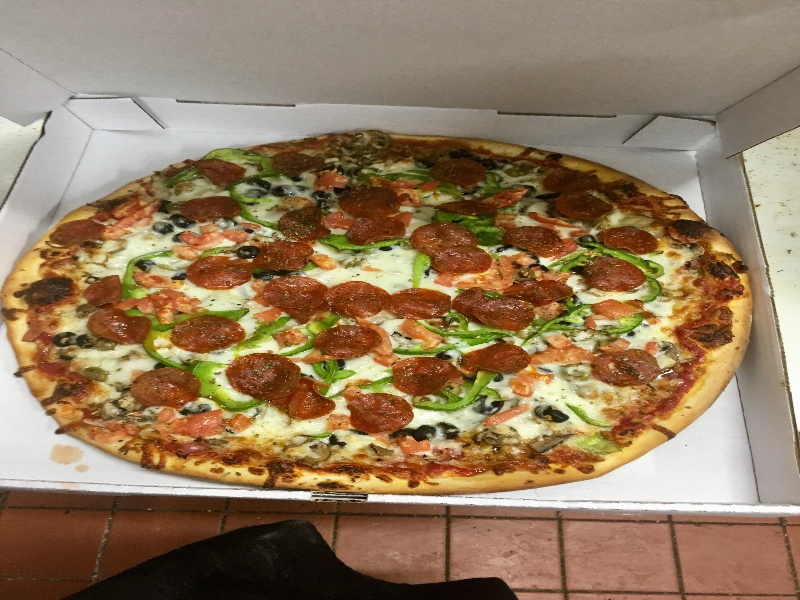pepperonis: (406, 216, 496, 278), (331, 379, 412, 444), (127, 355, 212, 415), (451, 280, 542, 332), (76, 295, 165, 348), (442, 332, 550, 375), (571, 248, 657, 298), (576, 343, 666, 390), (373, 349, 461, 397), (169, 306, 250, 358), (302, 316, 385, 366), (423, 146, 502, 196), (220, 350, 298, 400), (162, 186, 254, 228), (252, 273, 333, 320), (387, 277, 461, 328), (182, 242, 254, 293), (502, 210, 576, 258), (342, 203, 409, 252), (332, 273, 393, 324), (599, 213, 665, 260), (44, 214, 116, 253)
